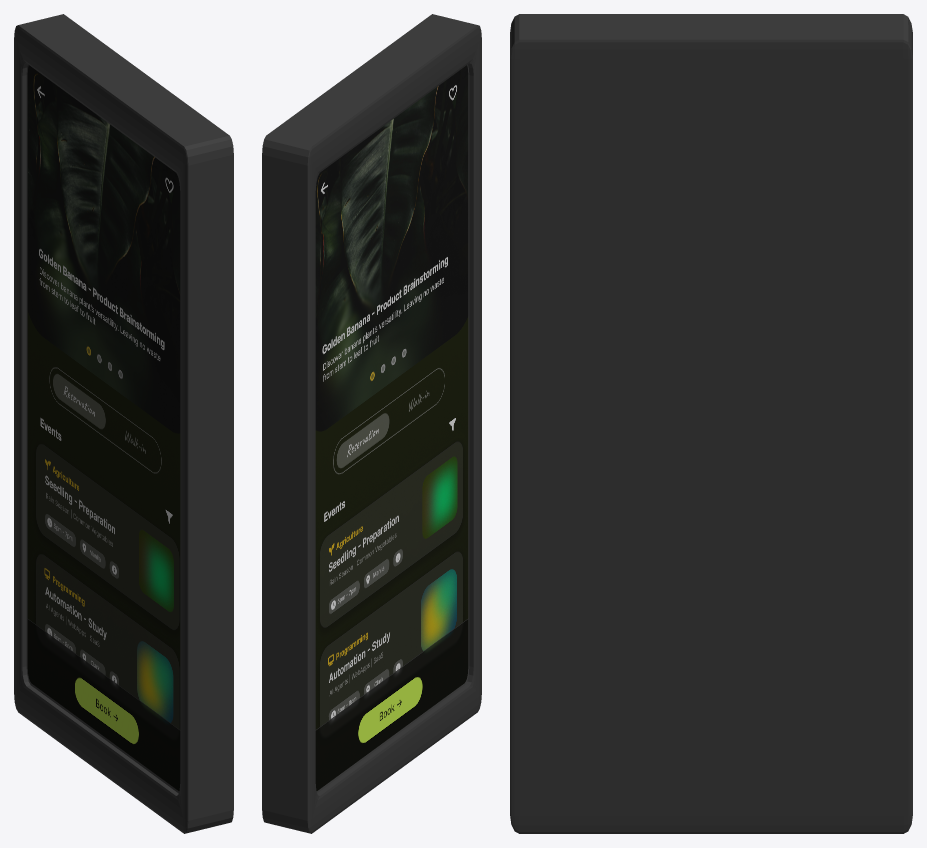
Rendered from m-egarden.glb.
3 renders of one model, left to right at view 1: azimuth 30°, elevation 25°; view 2: azimuth 150°, elevation 25°; view 3: azimuth 270°, elevation 25°, orthographic. The views are drawn at different scales.
Parts seen in each view (by area): view 1: iPhone 17 - 6, Cube; view 2: iPhone 17 - 6, Cube; view 3: Cube.
Boxes of the visible parts, x1=… form: iPhone 17 - 6: x1=27, y1=65, x2=180, y2=790; Cube: x1=14, y1=14, x2=233, y2=833; iPhone 17 - 6: x1=315, y1=65, x2=468, y2=790; Cube: x1=262, y1=14, x2=481, y2=833; Cube: x1=510, y1=14, x2=912, y2=833.
Bounding box in the file's own units: 0.1454 × 2 × 0.9193.
Materials: 2 (1 with a texture image).
